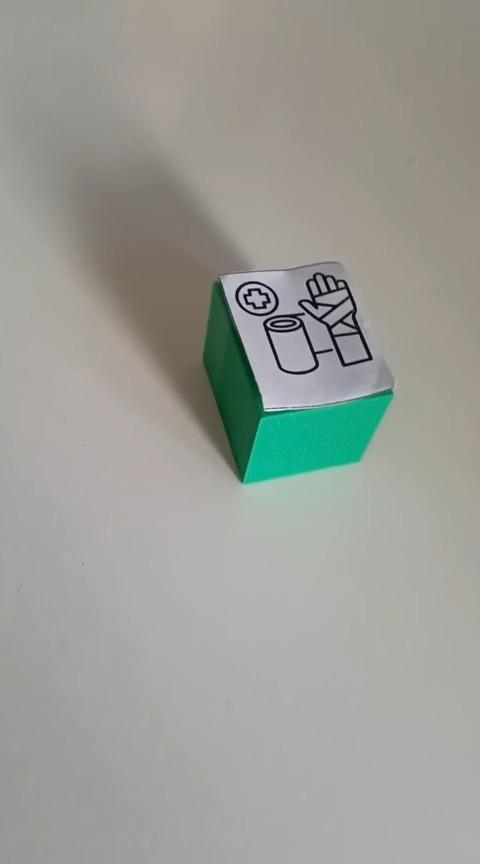Bandages: (201, 259, 395, 484)
